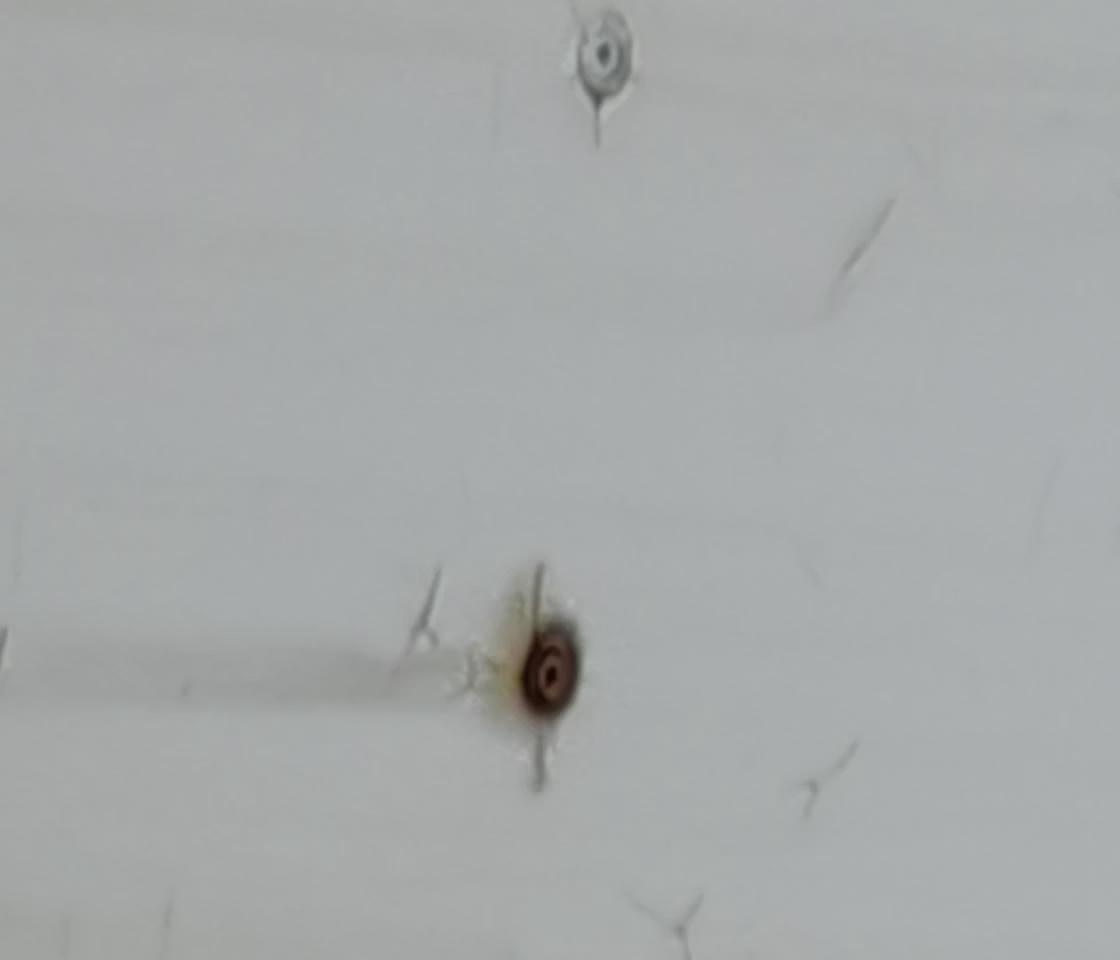rivet_damage: (514, 624, 597, 730)
